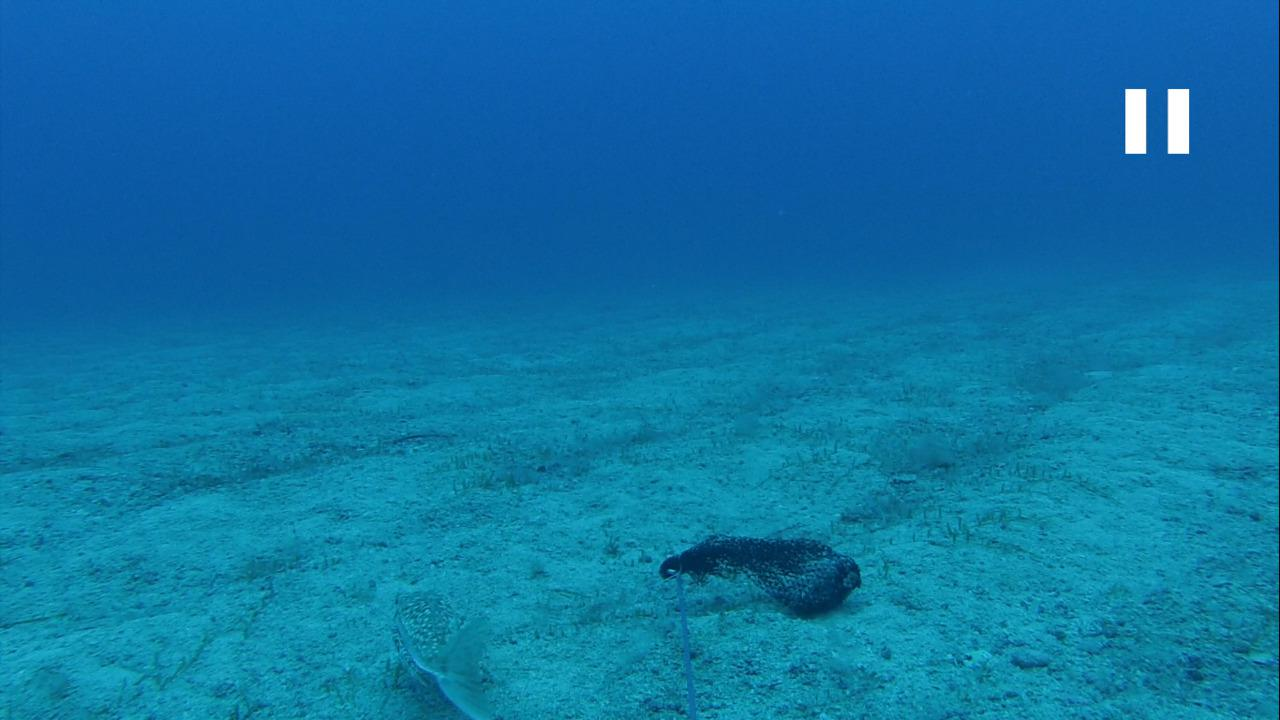dactylopterus: (367, 578, 504, 719)
